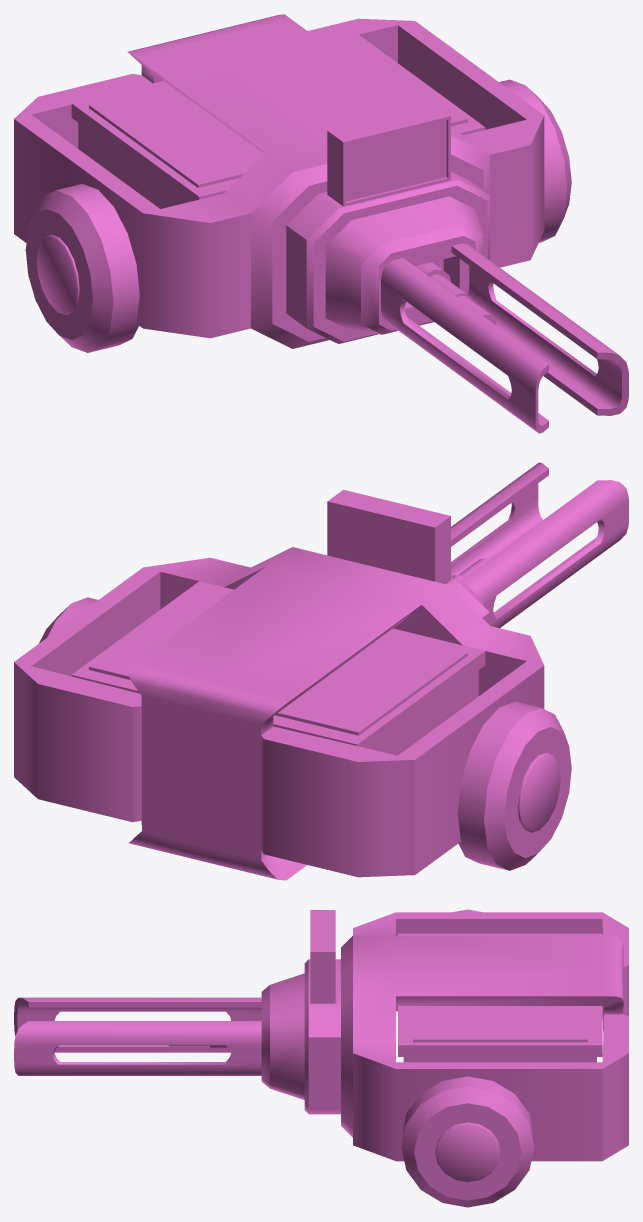
File: Turret.fbx
3 views of the same model, one above another, from view 1: azimuth 30°, elevation 25°; view 2: azimuth 150°, elevation 25°; view 3: azimuth 270°, elevation 25° (orthographic). The views are drawn at different scales.
Parts seen in each view (by area): view 1: MainTurret.001; view 2: MainTurret.001; view 3: MainTurret.001.
Part boxes in pixels (left/top/right/bottom): MainTurret.001: left=14, top=14, right=628, bottom=433; MainTurret.001: left=14, top=462, right=628, bottom=880; MainTurret.001: left=14, top=909, right=628, bottom=1207.
Size of the model in its own units: 211 by 97.5 by 289.
